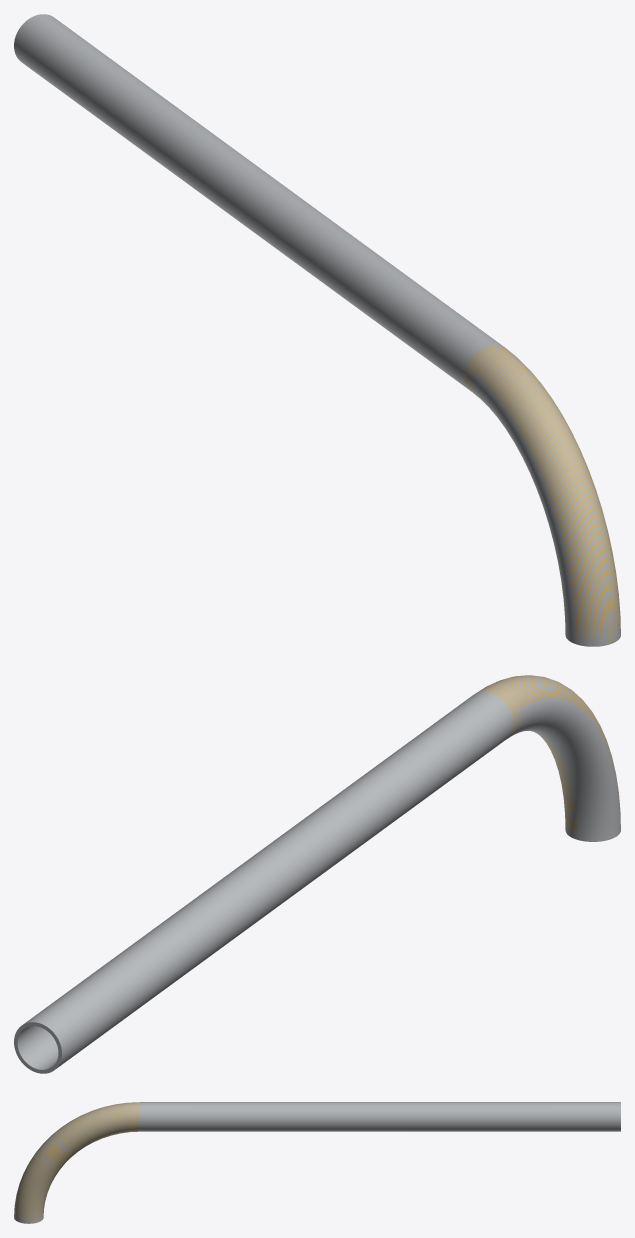
Rendered from step_40.glb.
3 renders of one model, top to bottom at view 1: azimuth 30°, elevation 25°; view 2: azimuth 150°, elevation 25°; view 3: azimuth 270°, elevation 25°, orthographic. The views are drawn at different scales.
Parts seen in each view (by area): view 1: part__cross tube front, added__cross tube front; view 2: part__cross tube front, added__cross tube front; view 3: part__cross tube front, added__cross tube front.
Boxes of the visible parts, left/top/right/bottom form: part__cross tube front: left=14, top=14, right=620, bottom=646; added__cross tube front: left=465, top=344, right=620, bottom=645; part__cross tube front: left=14, top=675, right=620, bottom=1073; added__cross tube front: left=476, top=675, right=620, bottom=838; part__cross tube front: left=14, top=1102, right=620, bottom=1223; added__cross tube front: left=14, top=1102, right=139, bottom=1223.
Bounding box in the file's own units: 80 × 340 × 1640.
